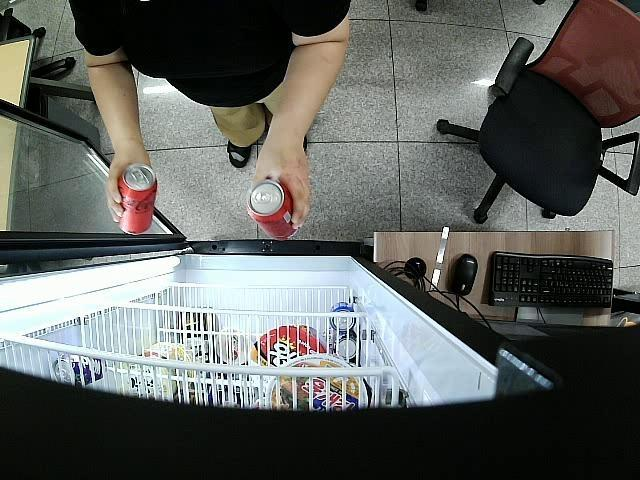11_cocaColaZero: (114, 166, 159, 239), (248, 181, 296, 240)
